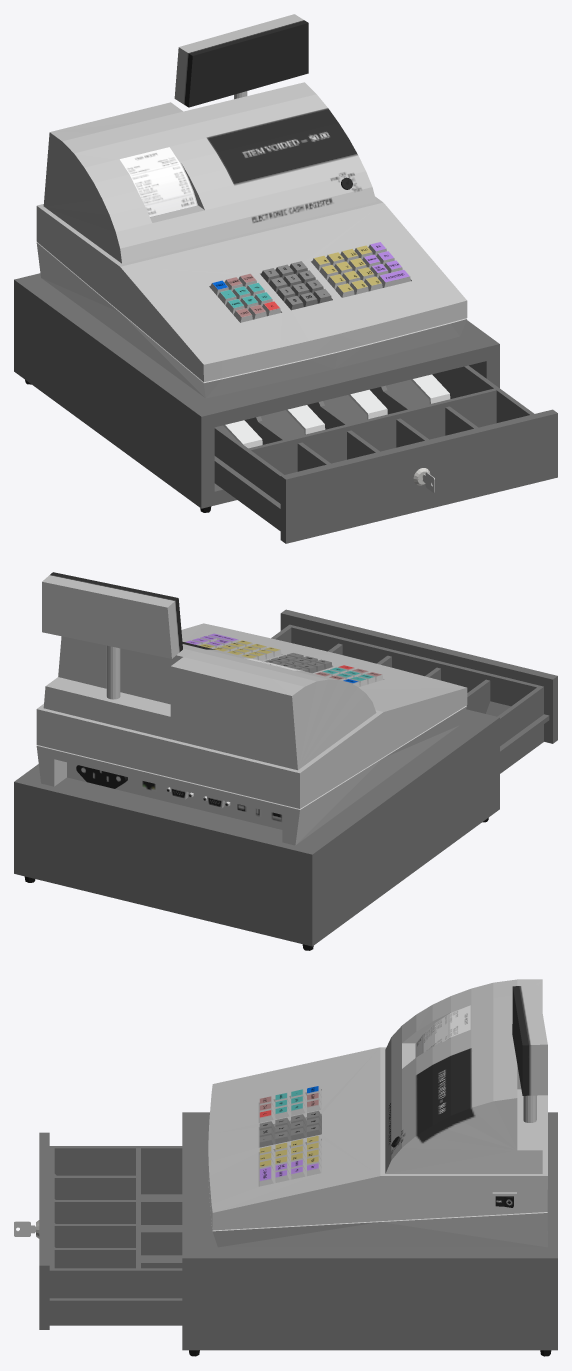
File: cash register.fbx
The picture shows the model from 3 angles, top to bottom: view 1: azimuth 30°, elevation 25°; view 2: azimuth 150°, elevation 25°; view 3: azimuth 270°, elevation 25°; orthographic projection.
Parts seen in each view (by area): view 1: main_cash_register_01_0, drawer_cash_register_01_0, screen_rotatable_cash_register_01_0, cash_receipt_cash_register_01_0, drawer_clip_03_cash_register_01_0, drawer_clip_04_cash_register_01_0, drawer_clip_02_cash_register_01_0; view 2: main_cash_register_01_0, drawer_cash_register_01_0, screen_rotatable_cash_register_01_0; view 3: main_cash_register_01_0, drawer_cash_register_01_0, screen_rotatable_cash_register_01_0, cash_receipt_cash_register_01_0.
Part boxes in pixels (bbox=[...]): main_cash_register_01_0: bbox=[14, 82, 499, 512]; drawer_cash_register_01_0: bbox=[214, 365, 557, 543]; screen_rotatable_cash_register_01_0: bbox=[174, 14, 308, 107]; cash_receipt_cash_register_01_0: bbox=[120, 147, 196, 216]; drawer_clip_03_cash_register_01_0: bbox=[348, 389, 387, 419]; drawer_clip_04_cash_register_01_0: bbox=[411, 374, 450, 403]; drawer_clip_02_cash_register_01_0: bbox=[286, 405, 325, 434]; main_cash_register_01_0: bbox=[14, 623, 499, 950]; drawer_cash_register_01_0: bbox=[271, 609, 557, 773]; screen_rotatable_cash_register_01_0: bbox=[42, 572, 182, 699]; main_cash_register_01_0: bbox=[182, 979, 557, 1356]; drawer_cash_register_01_0: bbox=[36, 1132, 182, 1329]; screen_rotatable_cash_register_01_0: bbox=[512, 985, 547, 1122]; cash_receipt_cash_register_01_0: bbox=[415, 1005, 470, 1057].
Size of the model in its own units: 0.34 by 0.33 by 0.5356.
1 material, 1 textured.
